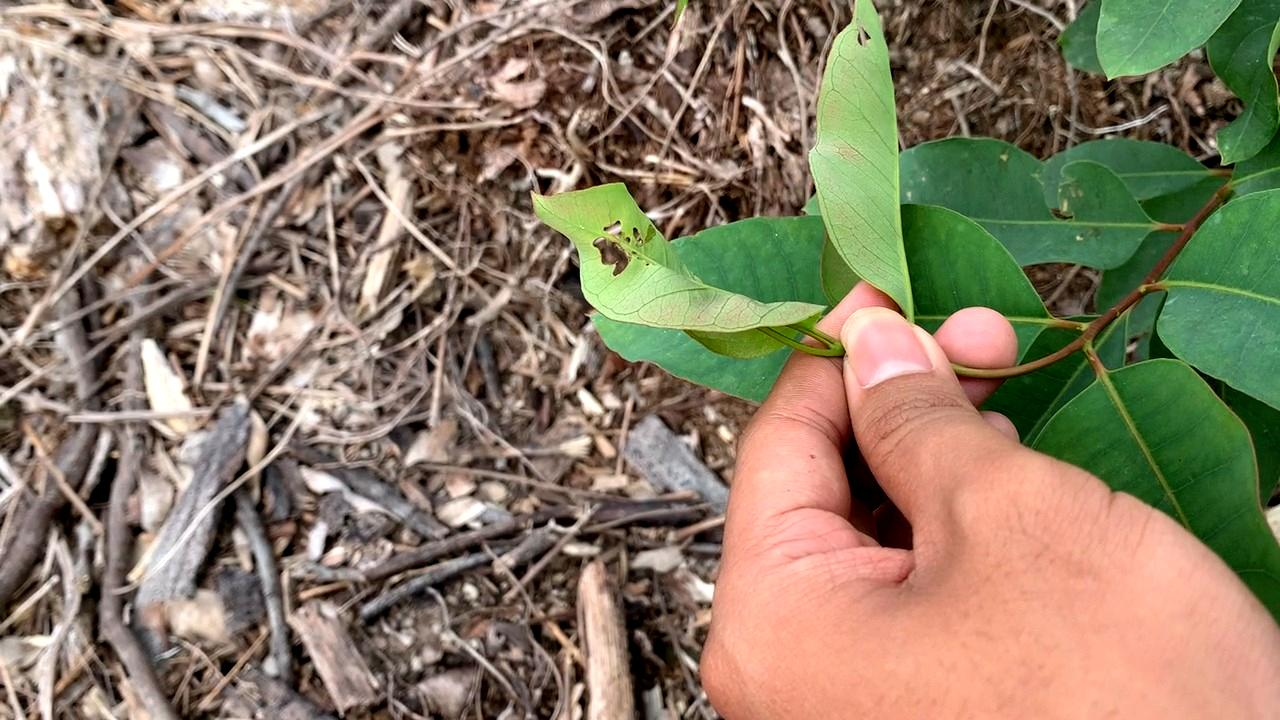Leaf Roller - Leaf: (526, 182, 825, 369)
